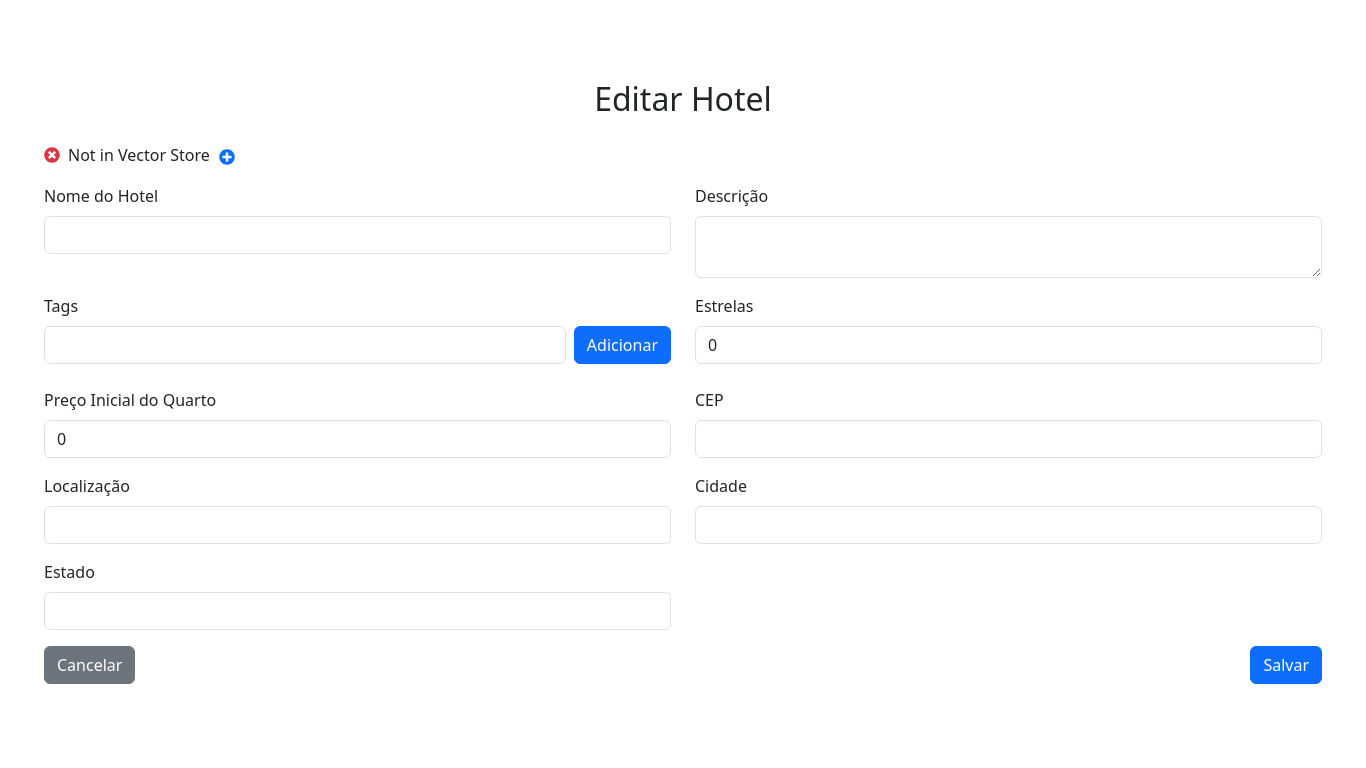
HotelForm component › updates an existing hotel
This screenshot has width=1366, height=768.
In the field labelled "Nome do Hotel": (358, 235) top-left (44, 216), bottom-right (671, 254), type "Updated Hotel"
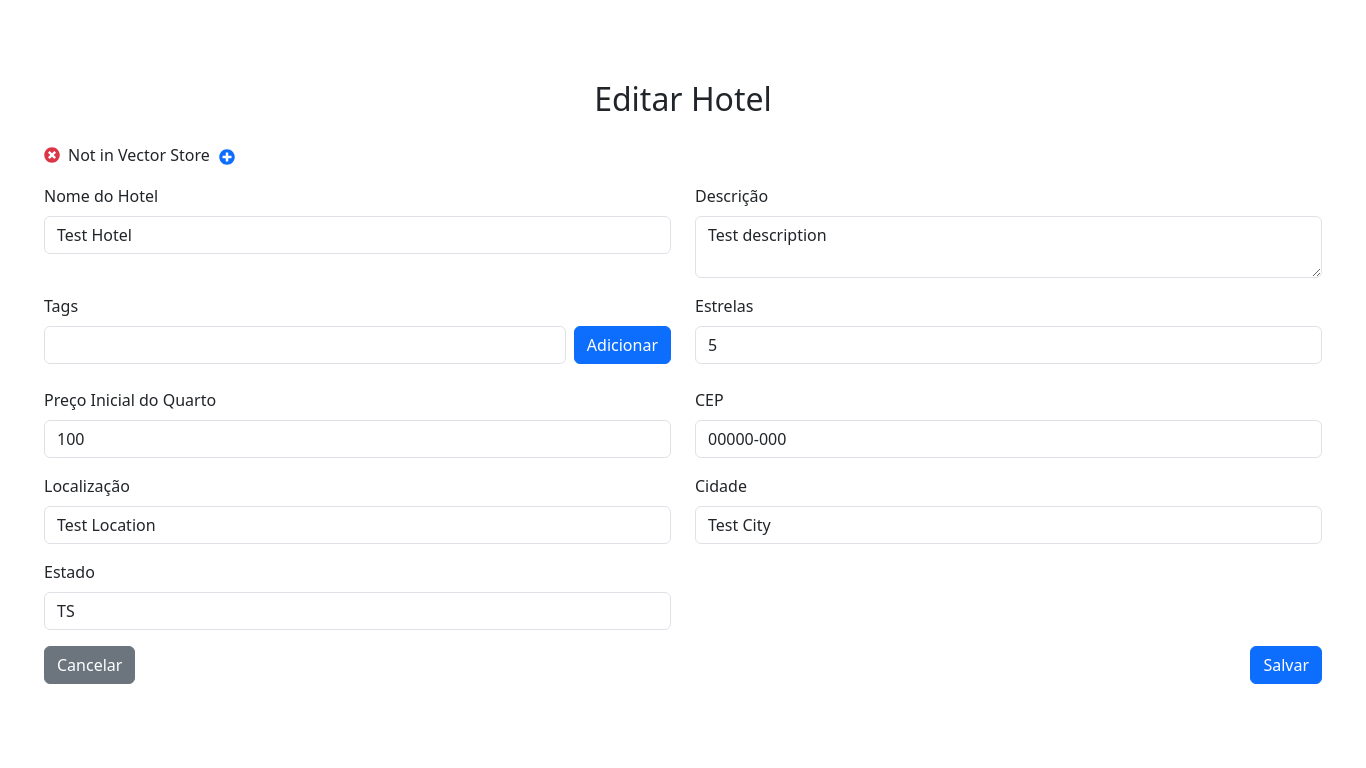
Submit the form from the button "Salvar", box top-left (1250, 646), bottom-right (1322, 684)
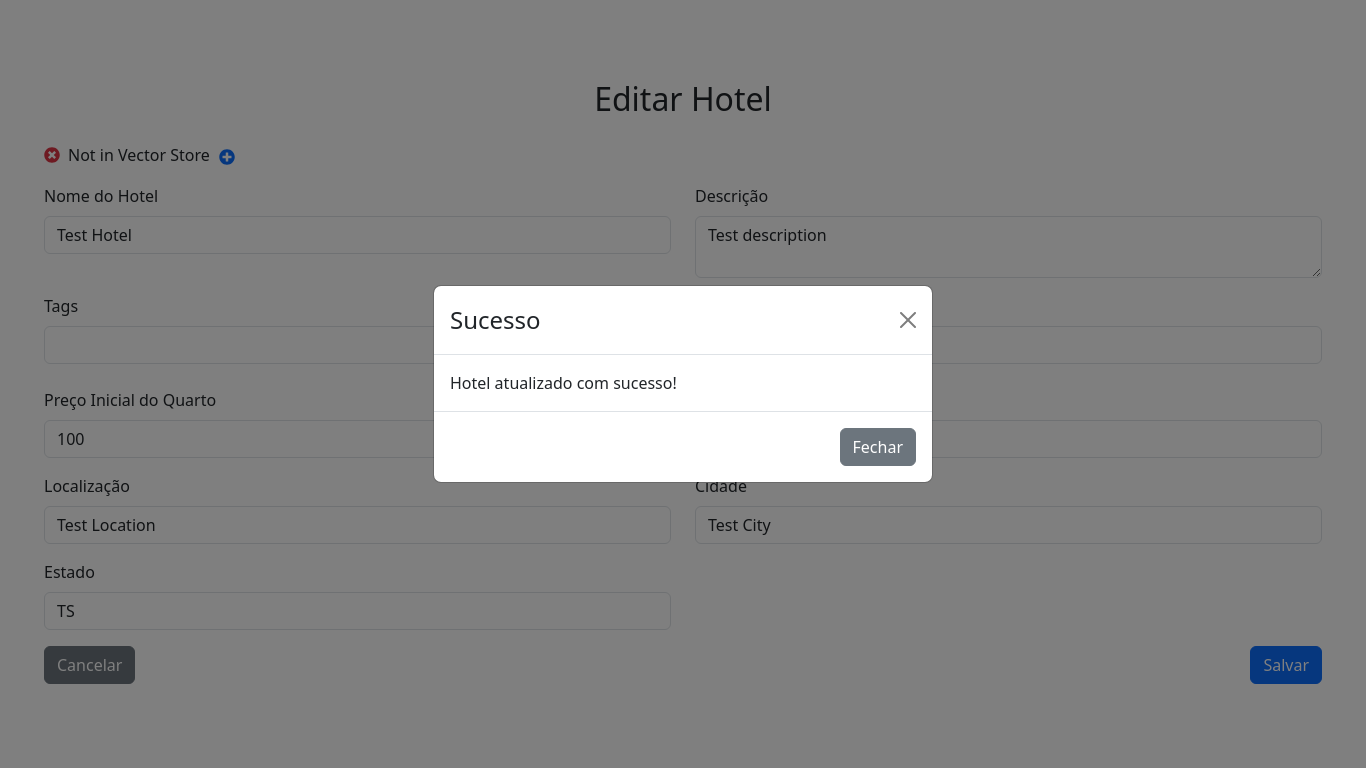
Expected: the text "Hotel atualizado com sucesso!" is shown, top-left (450, 372), bottom-right (677, 394)
